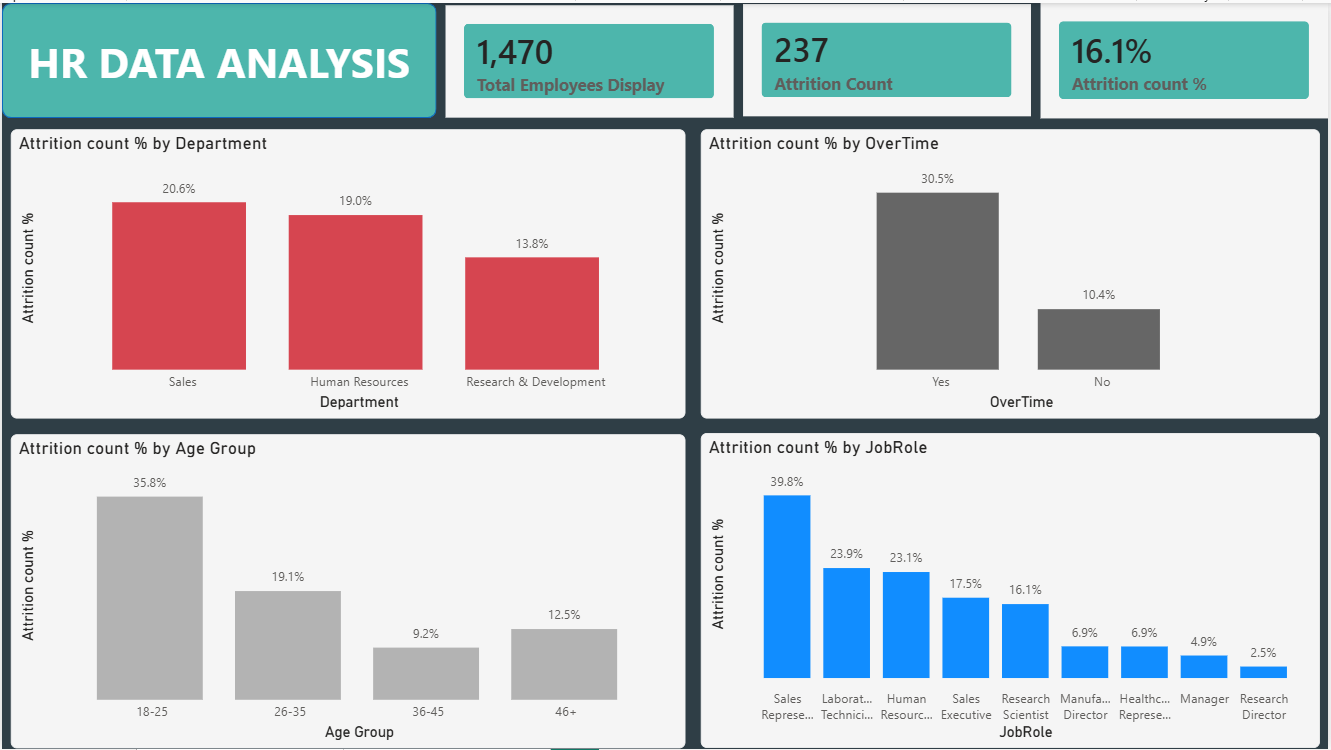

Layout of this report page (visuals, bound fields, positions):
{"tool":"powerbi","page":{"name":"HR Executive Overview","canvas":[1280,720],"ordinal":0},"visuals":[{"type":"cardVisual","fields":{"Data":["HR Data.Total Employees Display","select1","select"]},"box":[427.8,2.8,277.8,108.3],"z":0},{"type":"cardVisual","fields":{"Data":["HR Data.Attrition Count"]},"box":[715.3,1.4,277.8,108.3],"z":1000},{"type":"cardVisual","fields":{"Data":["HR Data.Attrition count %"]},"box":[1002.8,0,277.8,111.1],"z":2000},{"type":"clusteredColumnChart","fields":{"Category":["HR Data.Department"],"Y":["HR Data.Attrition count %"]},"box":[8.5,122.4,651,278.8],"z":3000},{"type":"clusteredColumnChart","fields":{"Y":["HR Data.Attrition count %"],"Category":["HR Data.OverTime"]},"box":[674.1,122.4,597.7,278.8],"z":4000},{"type":"shape","box":[0,0,419.4,111.1],"z":5000},{"type":"columnChart","fields":{"Y":["HR Data.Attrition count %"],"Category":["HR Data.Age Group"]},"box":[8.5,415.8,651,303.1],"z":6000},{"type":"columnChart","fields":{"Category":["HR Data.JobRole"],"Y":["HR Data.Attrition count %"]},"box":[674.1,414.6,597.7,304.3],"z":7000}]}

Visuals, with their boxes in screenshot pixels (x1, y1, x2, y2), scaled from the page's 1280x720 canvas onto the 1331x750 screenshot:
cardVisual - HR Data.Total Employees Display x select1: {"left": 445, "top": 3, "right": 734, "bottom": 116}
cardVisual - HR Data.Attrition Count: {"left": 744, "top": 1, "right": 1033, "bottom": 114}
cardVisual - HR Data.Attrition count %: {"left": 1043, "top": 0, "right": 1330, "bottom": 116}
clusteredColumnChart - HR Data.Department x HR Data.Attrition count %: {"left": 9, "top": 128, "right": 686, "bottom": 418}
clusteredColumnChart - HR Data.Attrition count % x HR Data.OverTime: {"left": 701, "top": 128, "right": 1322, "bottom": 418}
shape: {"left": 0, "top": 0, "right": 436, "bottom": 116}
columnChart - HR Data.Attrition count % x HR Data.Age Group: {"left": 9, "top": 433, "right": 686, "bottom": 749}
columnChart - HR Data.JobRole x HR Data.Attrition count %: {"left": 701, "top": 432, "right": 1322, "bottom": 749}
